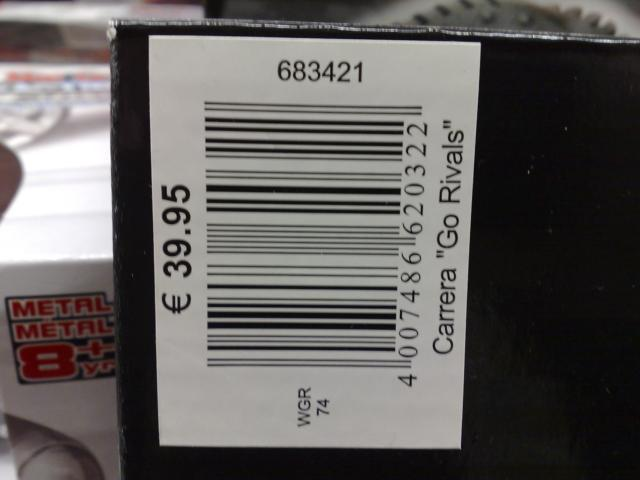Barcode: (194, 93, 433, 390)
